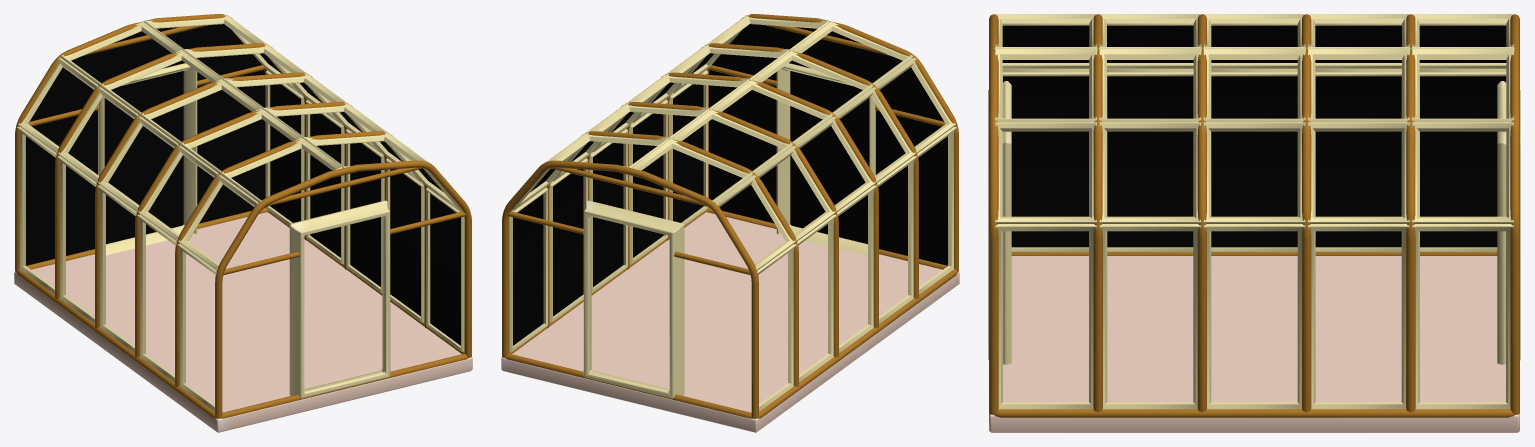
The model's file is Greenhouse.fbx.
3 views of the same model, side by side, from view 1: azimuth 30°, elevation 25°; view 2: azimuth 150°, elevation 25°; view 3: azimuth 270°, elevation 25° (orthographic). The views are drawn at different scales.
Parts seen in each view (by area): view 1: merge3; view 2: merge3; view 3: merge3.
Part boxes in pixels (bbox=[...]): merge3: bbox=[14, 14, 472, 432]; merge3: bbox=[501, 14, 959, 432]; merge3: bbox=[988, 14, 1520, 432].
Bounding box in the file's own units: 3.71 × 3.22 × 5.11.
